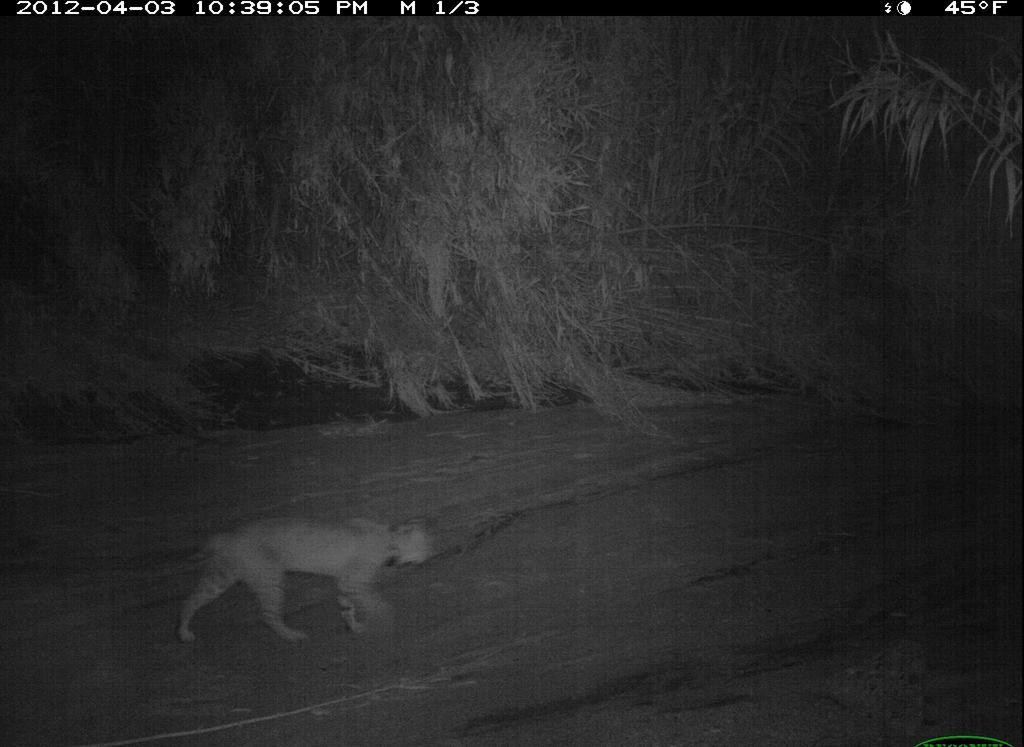bobcat: (163, 505, 450, 666)
